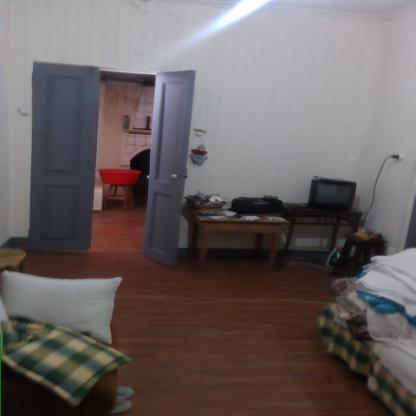open: (19, 54, 205, 270)
